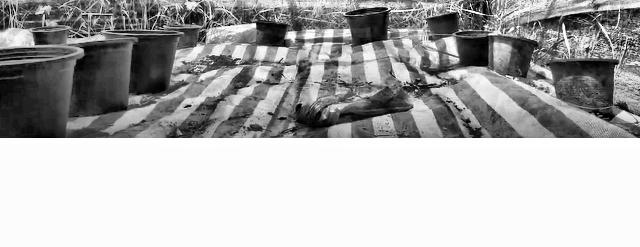pot: (1, 44, 85, 138), (103, 26, 186, 93), (65, 41, 141, 111), (550, 51, 622, 116), (487, 34, 541, 81), (341, 7, 400, 44), (454, 30, 489, 67), (422, 15, 467, 40), (256, 19, 292, 49), (166, 21, 203, 50), (28, 25, 72, 48)
